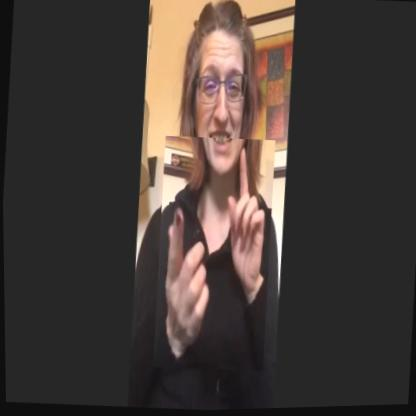NiceToMeetYou: (150, 135, 278, 376)
